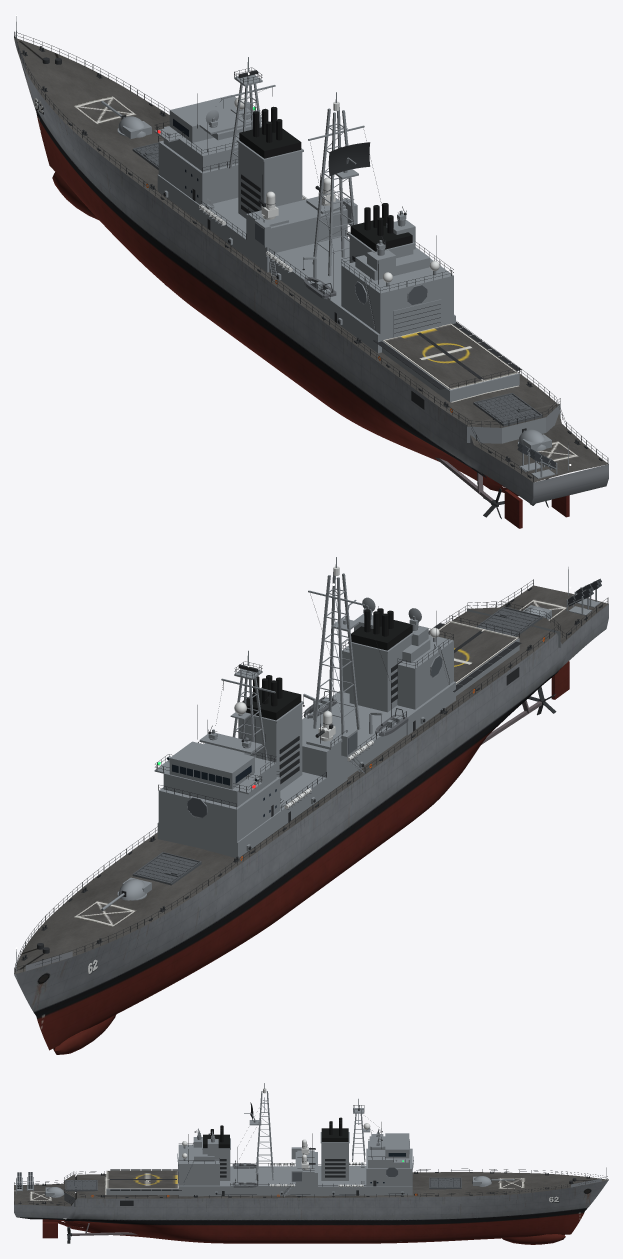
Rendered from cruiser.glb.
3 views of the same model, one above another, from view 1: azimuth 30°, elevation 25°; view 2: azimuth 150°, elevation 25°; view 3: azimuth 270°, elevation 25° (orthographic). The views are drawn at different scales.
Visible parts, largest first — view 1: cruiser_static, door_hangar_1, radar, mount_gun_0; view 2: cruiser_static, mount_gun_0; view 3: cruiser_static.
Part boxes in pixels (x1,y1,x2,y2): cruiser_static: [14, 14, 608, 528]; door_hangar_1: [393, 299, 441, 337]; radar: [328, 142, 370, 176]; mount_gun_0: [101, 100, 151, 138]; cruiser_static: [14, 557, 608, 1054]; mount_gun_0: [101, 877, 151, 911]; cruiser_static: [14, 1083, 608, 1244].
Size of the model in its own units: 17.3 by 51.6 by 173.
Materials: 15 (2 with a texture image).
